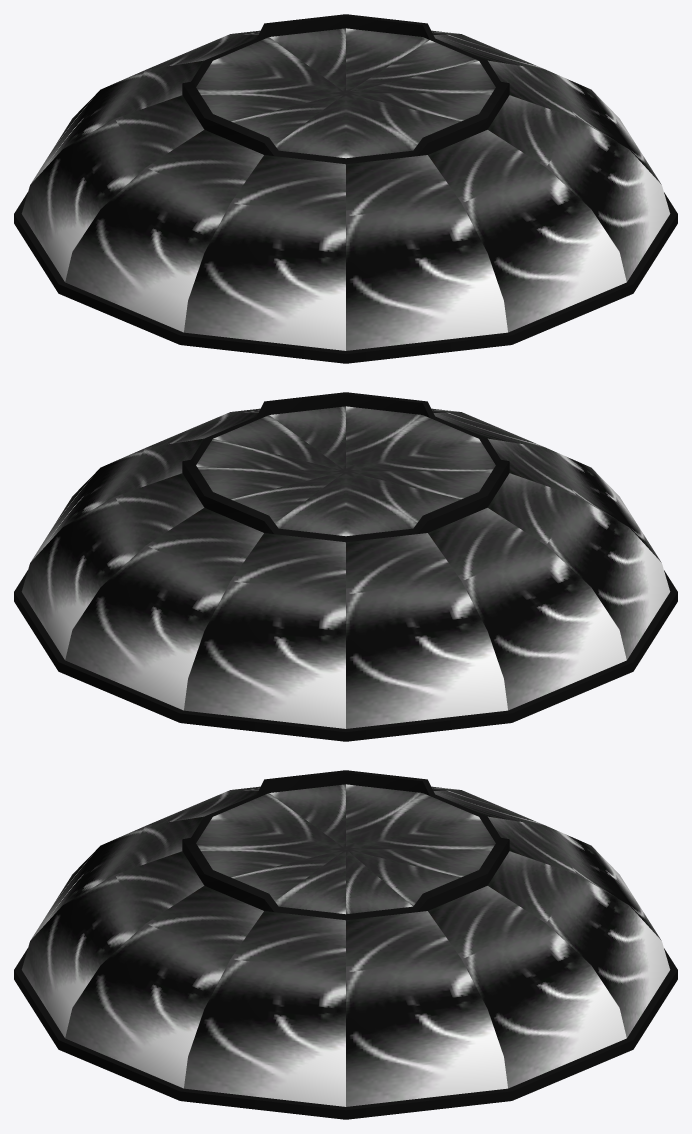
3 views of the same model, one above another, from view 1: azimuth 30°, elevation 25°; view 2: azimuth 150°, elevation 25°; view 3: azimuth 270°, elevation 25° (orthographic).
Parts seen in each view (by area): view 1: Joint_0_Object_0; view 2: Joint_0_Object_0; view 3: Joint_0_Object_0.
Boxes of the visible parts, left/top/right/bottom form: Joint_0_Object_0: left=14, top=14, right=677, bottom=363; Joint_0_Object_0: left=14, top=392, right=677, bottom=741; Joint_0_Object_0: left=14, top=770, right=677, bottom=1119.
Size of the model in its own units: 508 by 120 by 508.
